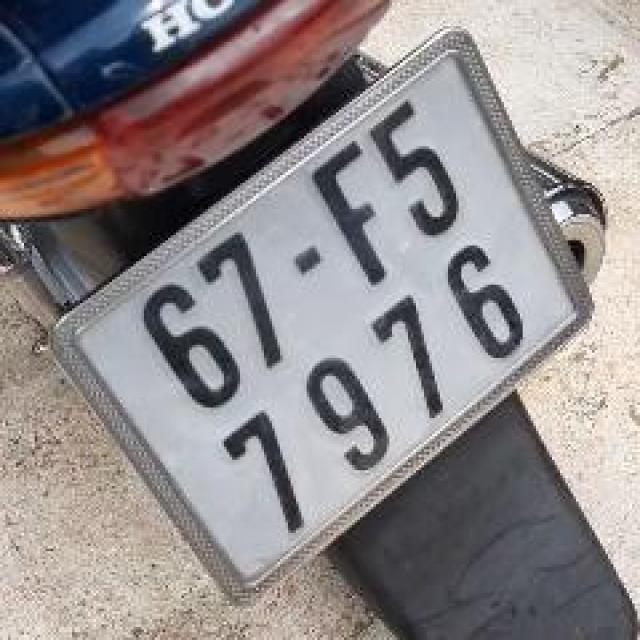5: (357, 86, 483, 263)
6: (125, 268, 265, 429), (419, 213, 550, 378)
7: (197, 390, 344, 557), (182, 221, 311, 392), (354, 278, 474, 439)
9: (276, 336, 413, 493)
F: (290, 125, 416, 300)
